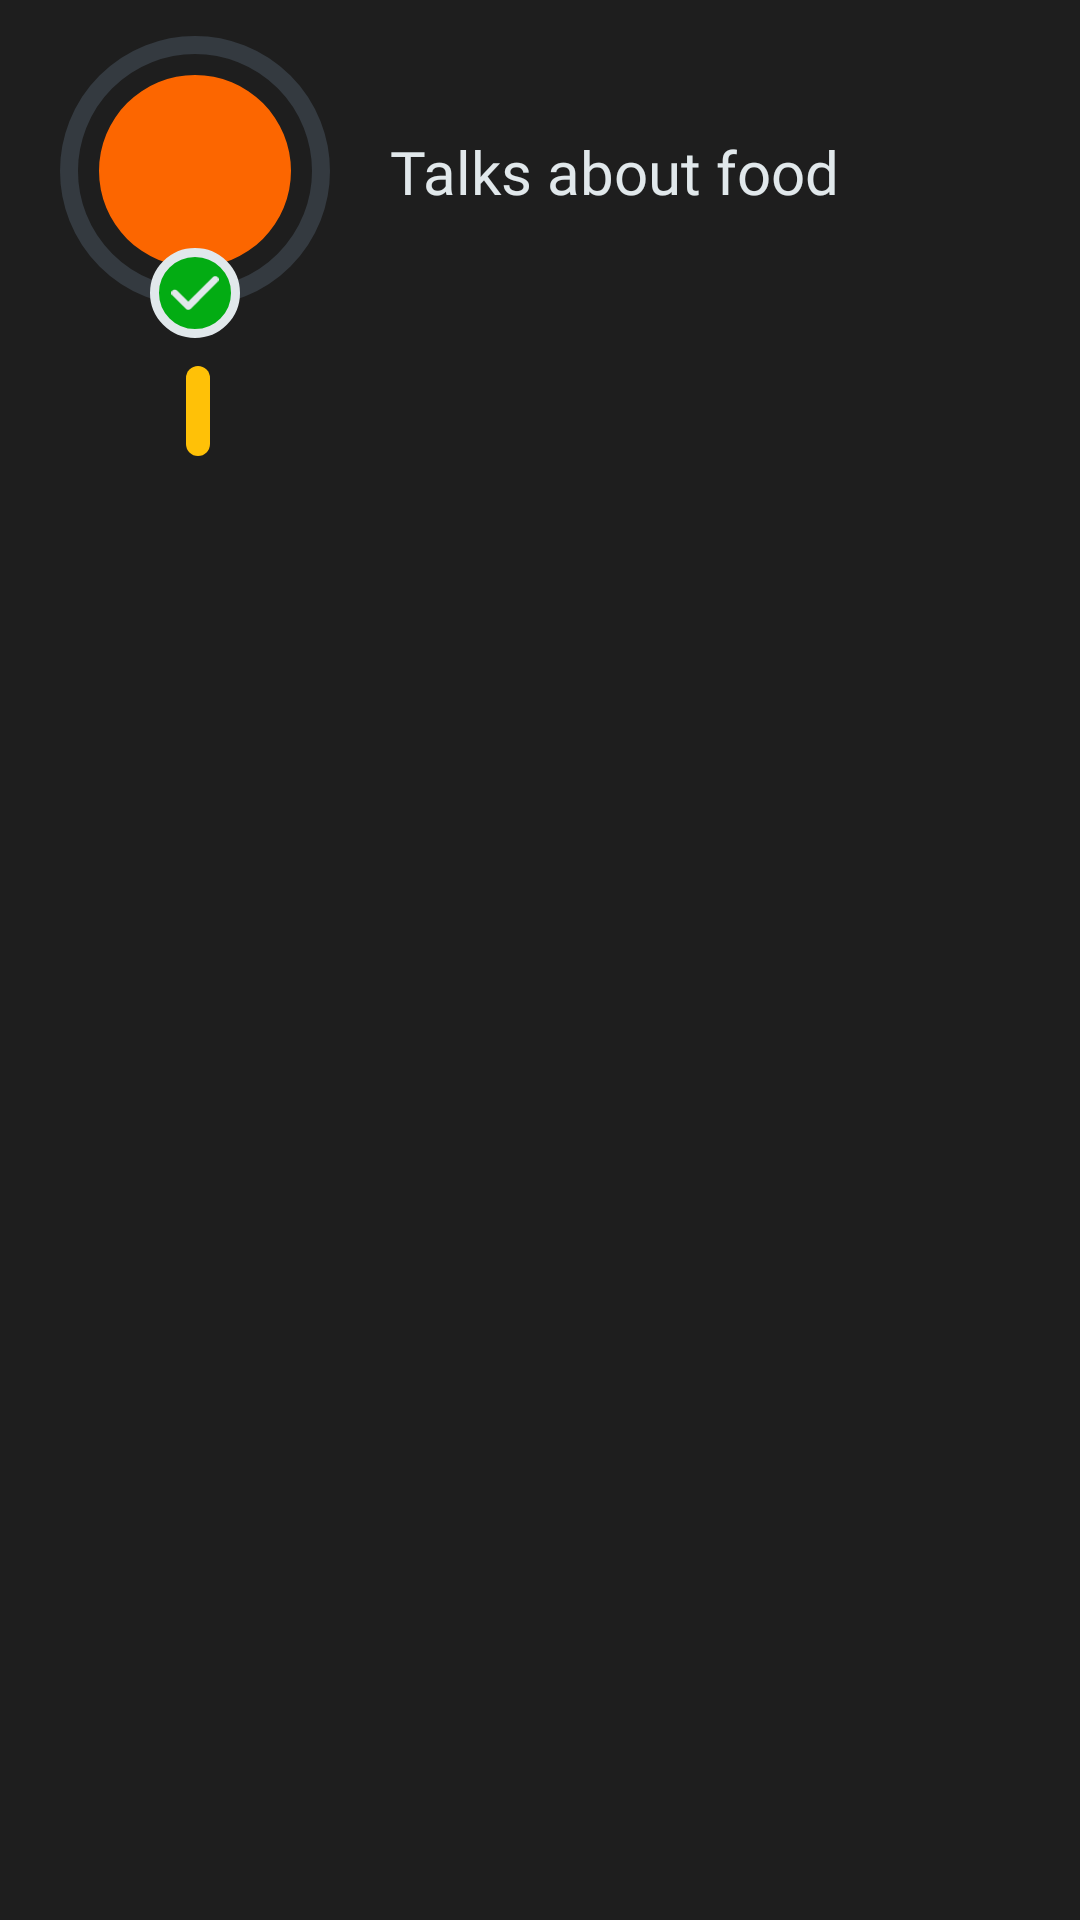

Named icons in this screenshot (1080 × 1920) and their bounding boxes, bbox=(x1, y1, x2, y2):
check: bbox=(171, 276, 219, 310)
